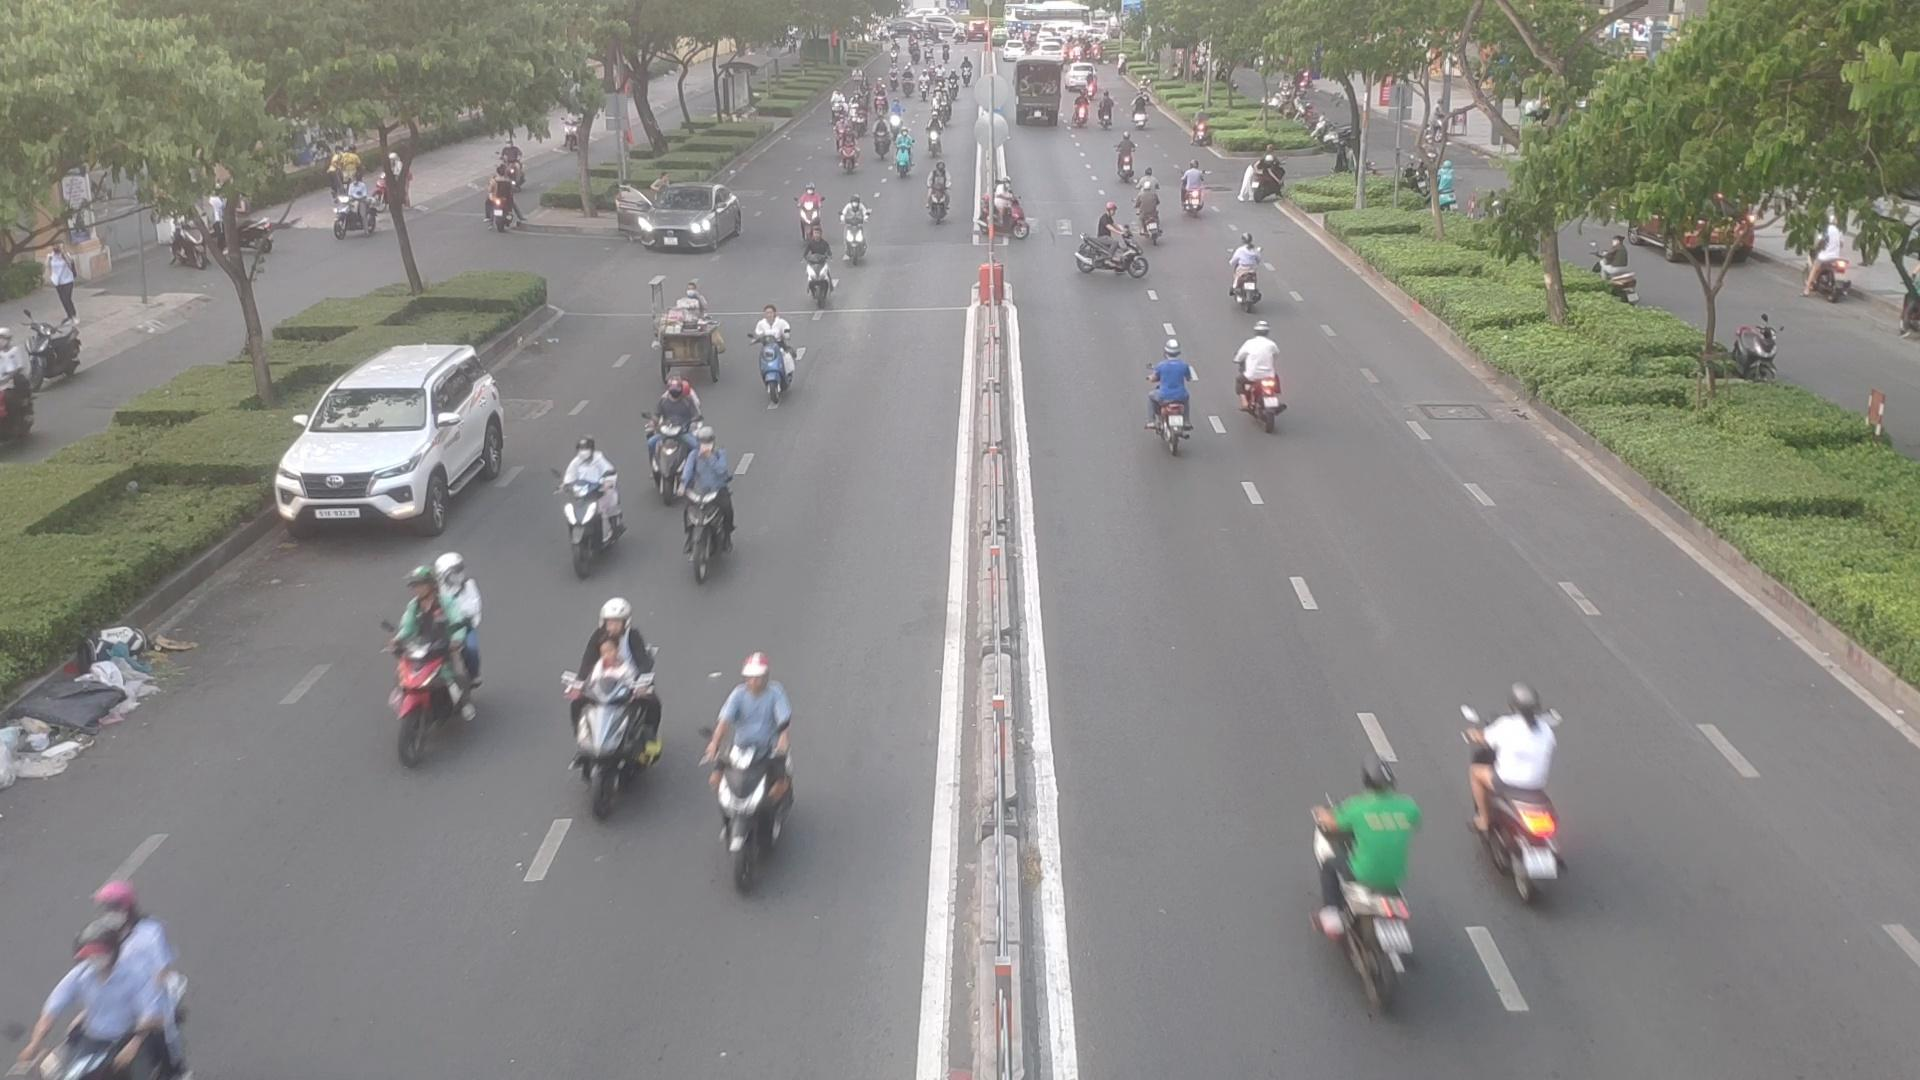car: (270, 344, 512, 535), (617, 185, 750, 258)
motorbike: (33, 884, 190, 1080), (1309, 760, 1419, 1013), (1466, 683, 1578, 897), (556, 599, 663, 814), (394, 550, 477, 754), (717, 661, 794, 880), (556, 436, 618, 568), (1146, 343, 1199, 459), (690, 440, 735, 574), (1067, 206, 1145, 281), (746, 297, 799, 393), (1236, 330, 1287, 423), (653, 392, 694, 491), (1234, 229, 1261, 316), (841, 191, 870, 261), (930, 160, 956, 229), (1130, 183, 1160, 241), (796, 174, 822, 244), (810, 240, 833, 311), (893, 123, 916, 177), (1179, 160, 1201, 216), (840, 120, 862, 170), (1116, 131, 1135, 179)
